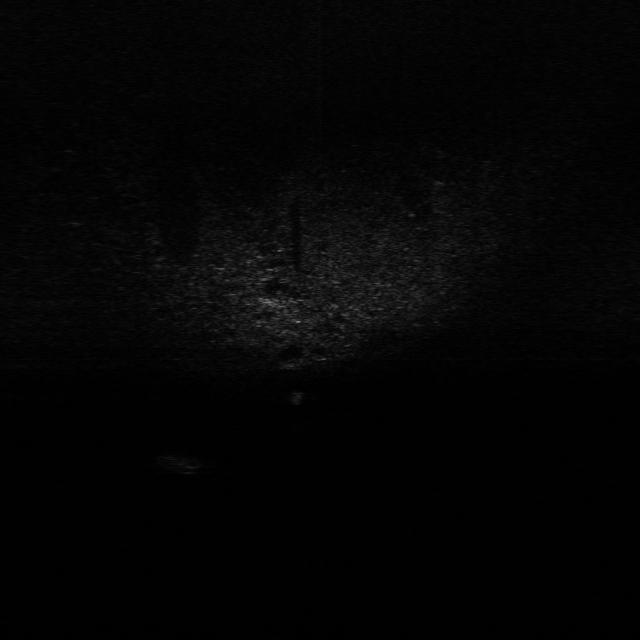circle cage: (152, 448, 213, 478)
cylinder: (288, 386, 306, 408)
